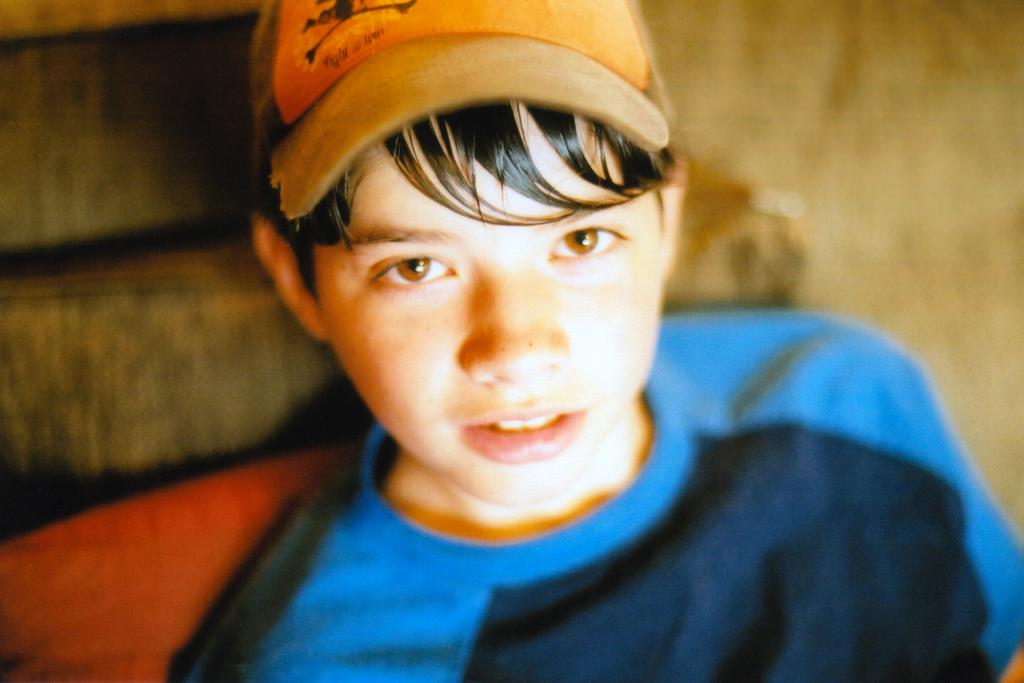Hat: (244, 0, 674, 218)
